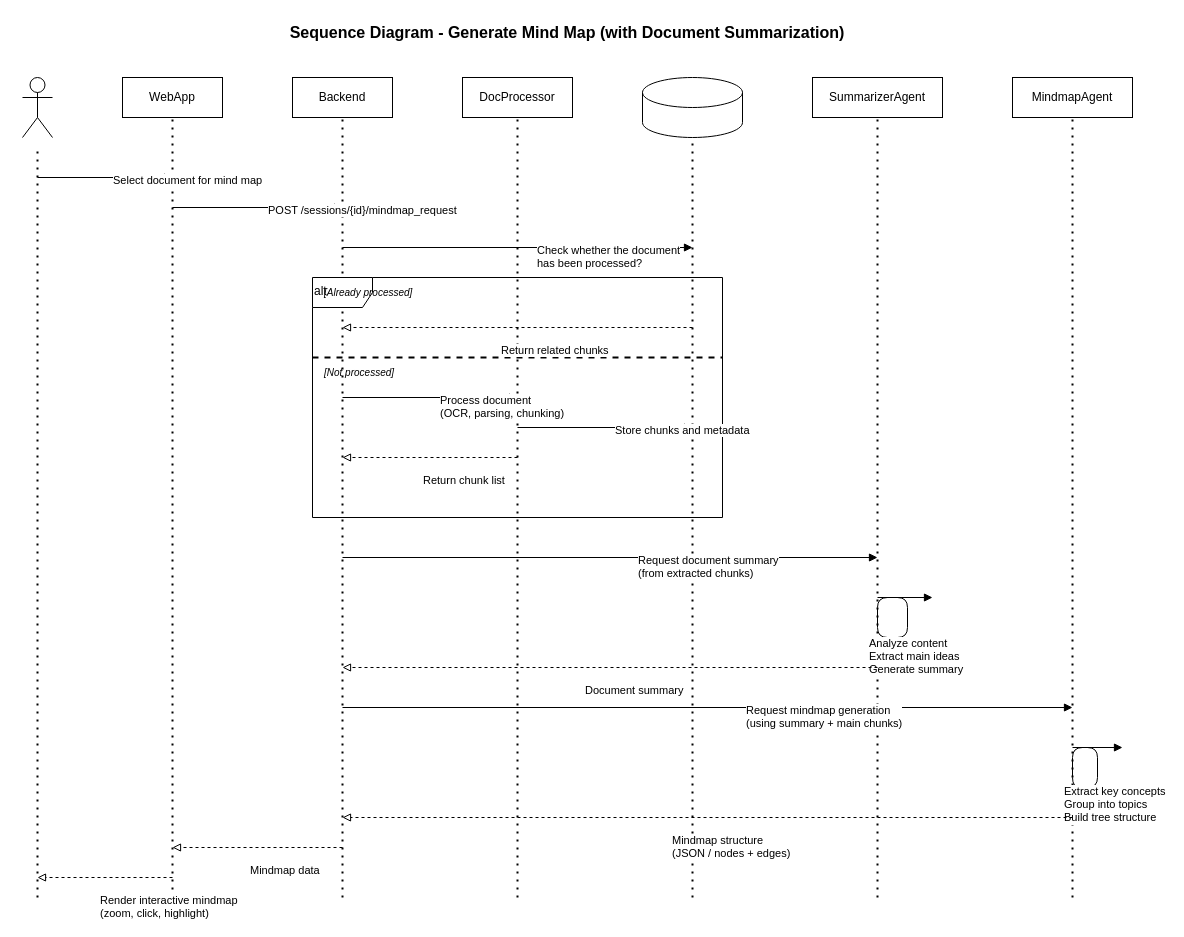
Image size: 1184x937. Some labels were removed from this diagram. Each missing label, with the centre of its shape:
"DocumentCache" belongs at point 692,107.
"Learner" belongs at point 37,107.
